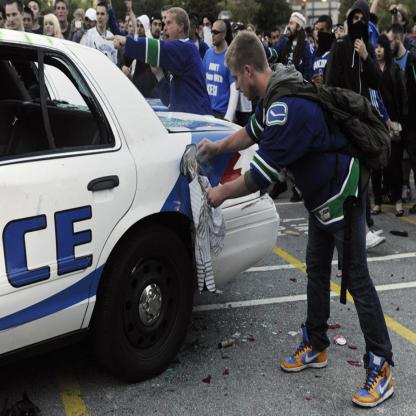face: (231, 69, 256, 101), (165, 14, 179, 43), (352, 11, 366, 37), (7, 6, 22, 30), (387, 35, 399, 55), (288, 16, 299, 37), (213, 26, 223, 46), (97, 7, 107, 26), (23, 14, 33, 33), (163, 12, 173, 31), (152, 19, 162, 37), (57, 3, 67, 21), (45, 20, 55, 36), (30, 2, 39, 19), (204, 19, 213, 35), (85, 16, 95, 30), (377, 44, 385, 61), (319, 24, 328, 39), (138, 20, 146, 36), (396, 12, 404, 28), (75, 16, 84, 30), (272, 31, 279, 46), (129, 22, 136, 37), (125, 17, 132, 32), (336, 28, 343, 42), (315, 26, 322, 40), (248, 27, 254, 40)
